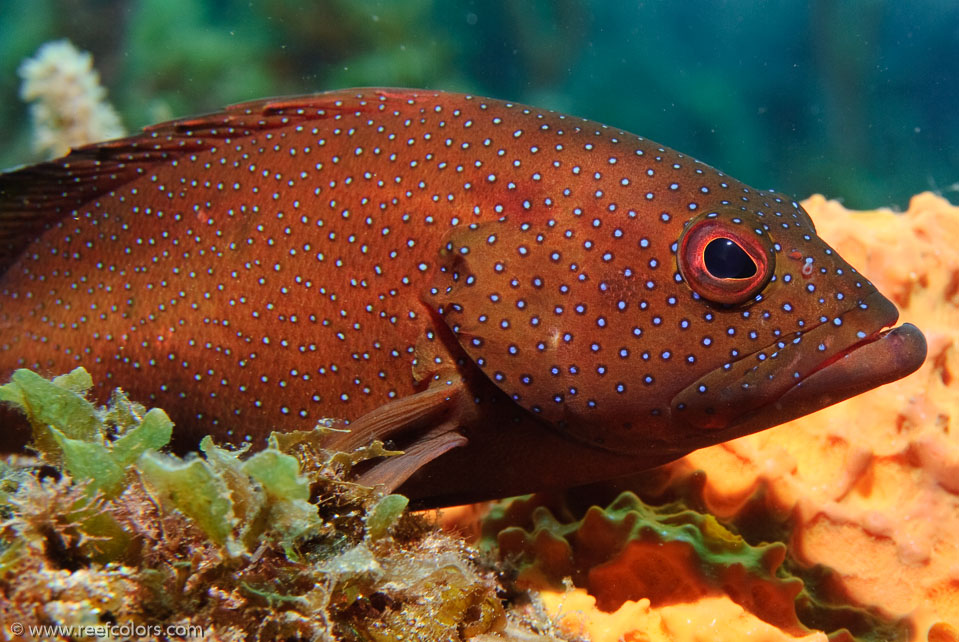Cephalopholis_fulvaw: (1, 73, 953, 539)
